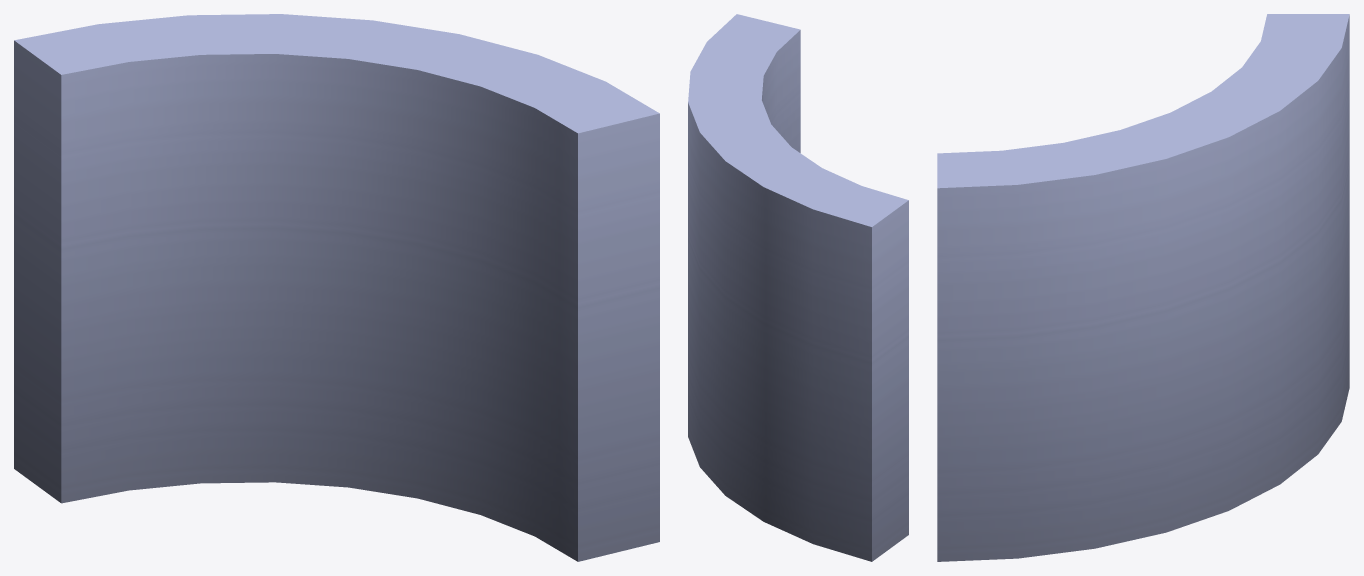
File: wall-round.fbx
3 views of the same model, side by side, from view 1: azimuth 30°, elevation 25°; view 2: azimuth 150°, elevation 25°; view 3: azimuth 270°, elevation 25° (orthographic). The views are drawn at different scales.
Parts seen in each view (by area): view 1: wall-round; view 2: wall-round; view 3: wall-round.
Boxes of the visible parts, box(x1,y1,x2,y2) form: wall-round: box(14, 14, 659, 561); wall-round: box(688, 14, 908, 561); wall-round: box(937, 14, 1349, 561).
Bounding box in the file's own units: 100 × 100 × 100.
